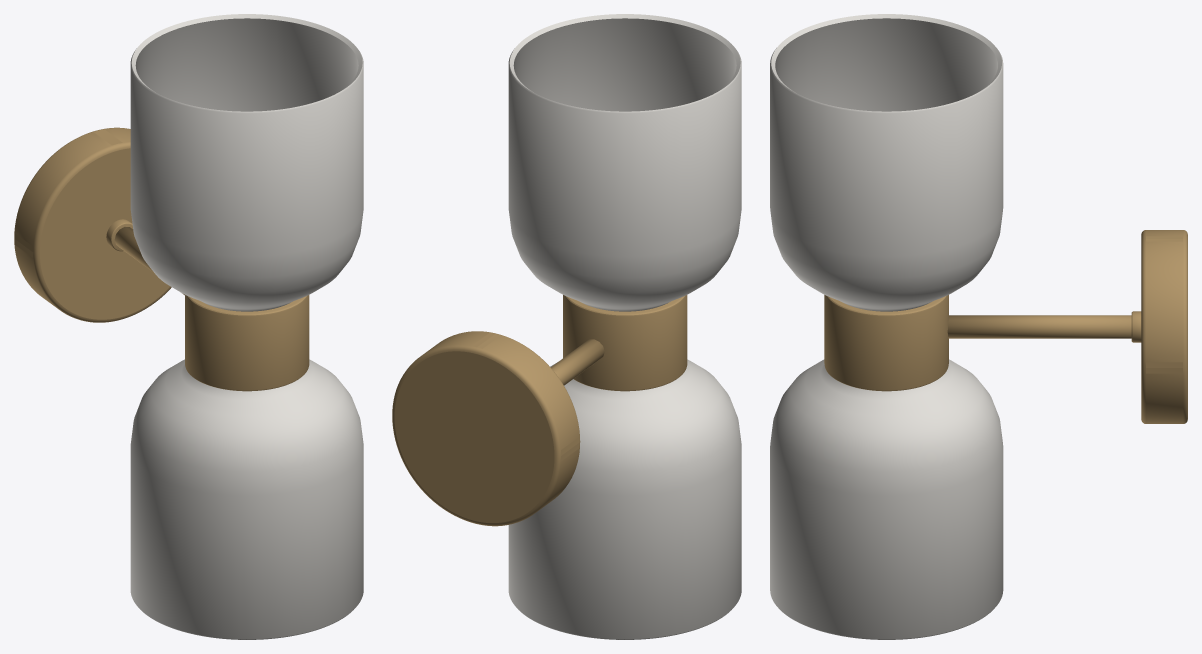
3 renders of one model, left to right at view 1: azimuth 30°, elevation 25°; view 2: azimuth 150°, elevation 25°; view 3: azimuth 270°, elevation 25°, orthographic.
Visible parts, largest first — view 1: glass, metal; view 2: glass, metal; view 3: glass, metal.
Part boxes in pixels (x1=…): glass: x1=130, y1=14, x2=363, y2=639; metal: x1=14, y1=127, x2=309, y2=391; glass: x1=508, y1=14, x2=741, y2=639; metal: x1=392, y1=295, x2=687, y2=526; glass: x1=770, y1=14, x2=1003, y2=639; metal: x1=824, y1=230, x2=1187, y2=423.
Bounding box in the file's own units: 0.12 × 0.3 × 0.215.
